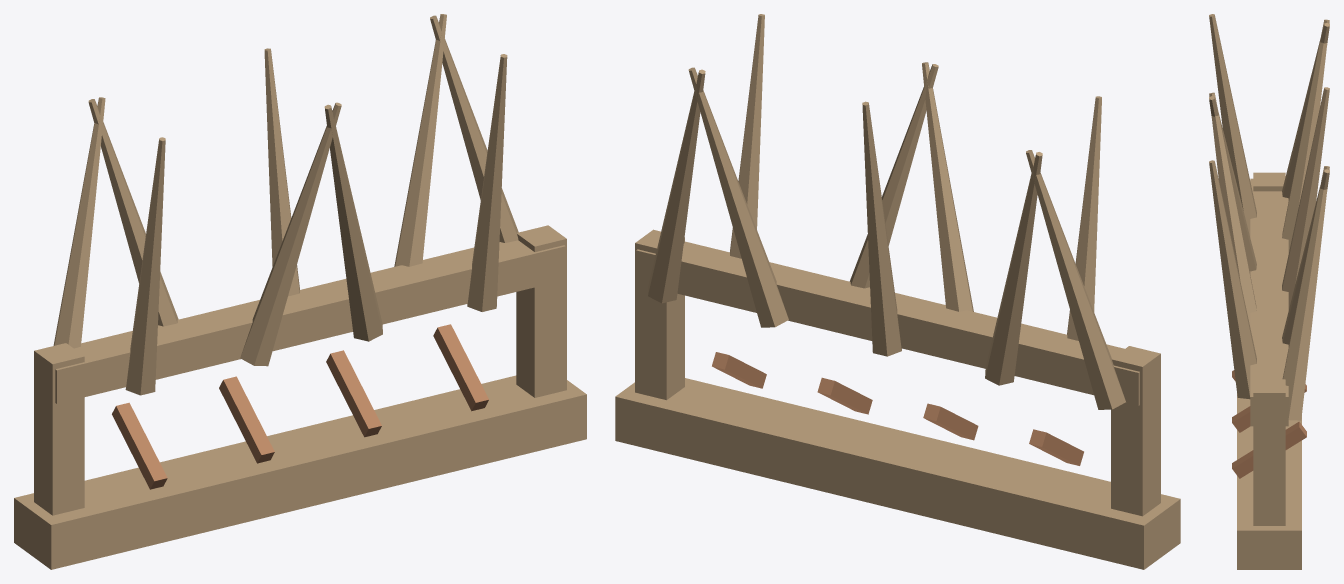
The model's file is wipe-day-survival-island-wooden-spike-wall-251e82fb__27471.glb.
The picture shows the model from 3 angles, left to right: view 1: azimuth 30°, elevation 25°; view 2: azimuth 150°, elevation 25°; view 3: azimuth 270°, elevation 25°; orthographic projection. The views are drawn at different scales.
Parts seen in each view (by area): view 1: wooden-spike-wall; view 2: wooden-spike-wall; view 3: wooden-spike-wall.
Part boxes in pixels (x1,y1,x2,y2): wooden-spike-wall: (14, 14, 586, 569); wooden-spike-wall: (615, 14, 1180, 569); wooden-spike-wall: (1209, 14, 1329, 569).
Bounding box in the file's own units: 2 × 1.49 × 0.4443.
